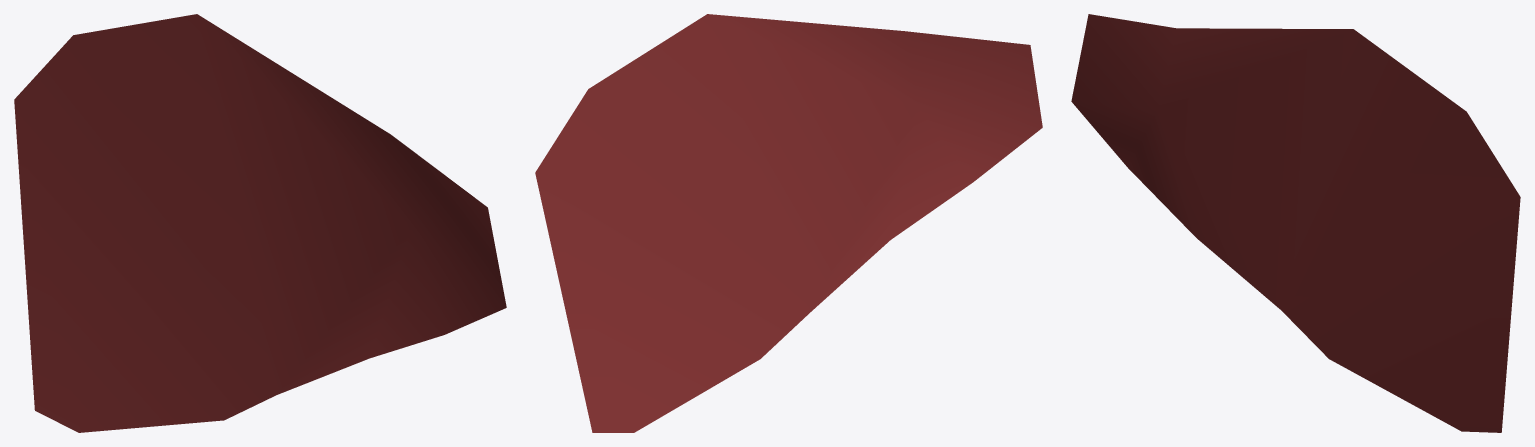
File: flexor-digiti-minimi-of-hand-or.glb
The picture shows the model from 3 angles, left to right: view 1: azimuth 90°, elevation 25°; view 2: azimuth 150°, elevation 25°; view 3: azimuth 270°, elevation 25°; orthographic projection. The views are drawn at different scales.
Visible parts, largest first — view 1: Flexor digiti minimi of hand.or; view 2: Flexor digiti minimi of hand.or; view 3: Flexor digiti minimi of hand.or.
Part boxes in pixels (<box>): Flexor digiti minimi of hand.or: <box>14,14,506,432</box>; Flexor digiti minimi of hand.or: <box>535,14,1042,432</box>; Flexor digiti minimi of hand.or: <box>1071,14,1520,432</box>.
Size of the model in its own units: 0.00243 by 0.00312 by 0.00324.
